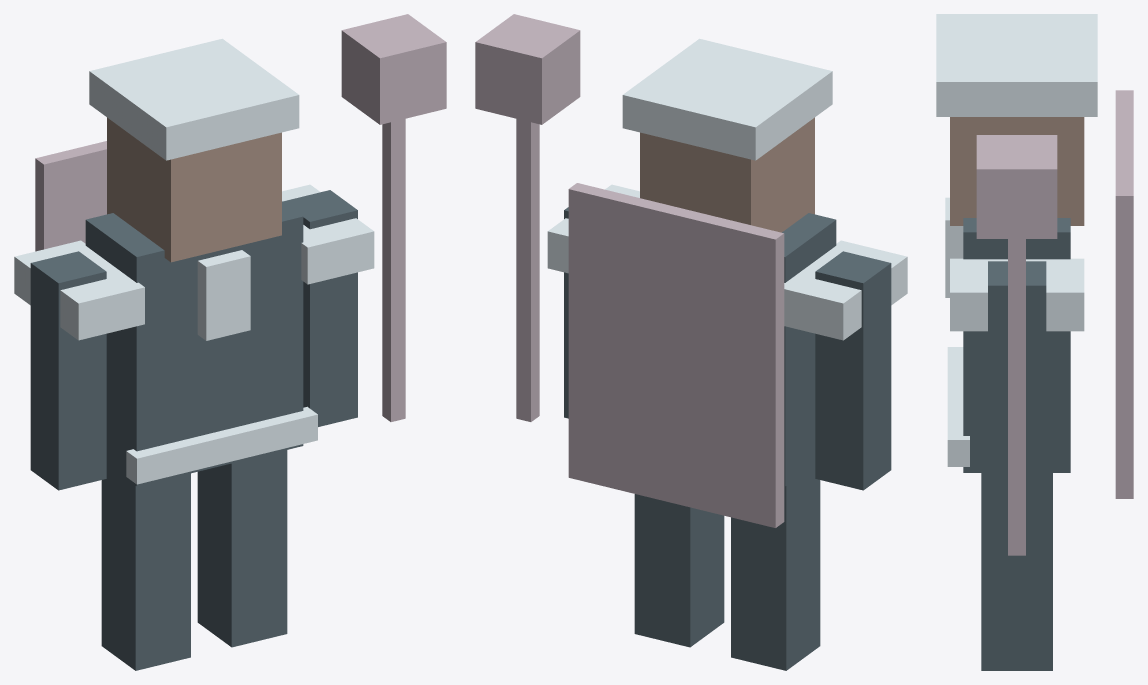
Rendered from 20_keir_nullborne_specialist_under_decon.glb.
3 views of the same model, side by side, from view 1: azimuth 30°, elevation 25°; view 2: azimuth 150°, elevation 25°; view 3: azimuth 270°, elevation 25° (orthographic). The views are drawn at different scales.
Visible parts, largest first — view 1: Keir Nullborne, Specialist under Decon; view 2: Keir Nullborne, Specialist under Decon; view 3: Keir Nullborne, Specialist under Decon.
Boxes of the visible parts, x1,y1,x2,y2 form: Keir Nullborne, Specialist under Decon: (14, 14, 446, 670); Keir Nullborne, Specialist under Decon: (475, 14, 907, 670); Keir Nullborne, Specialist under Decon: (936, 14, 1133, 670).
Size of the model in its own units: 1.1 by 1.53 by 0.4665.
